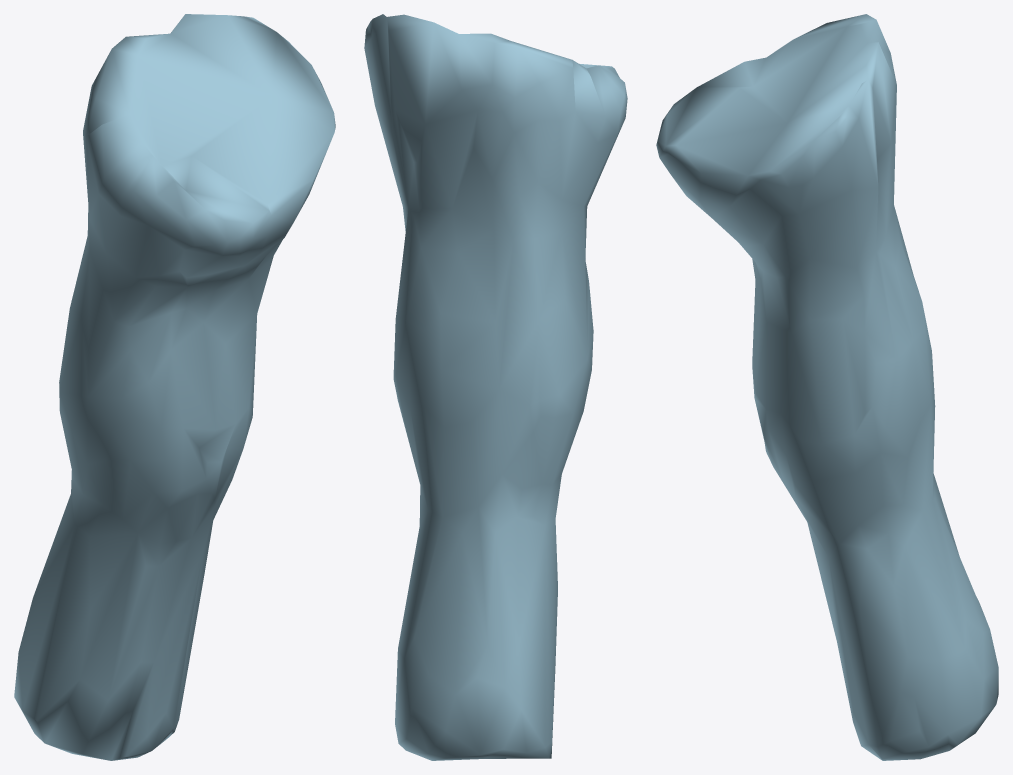
File: articulacoes-lateral-thyrohyoid-ligament-l.glb
3 renders of one model, left to right at view 1: azimuth 30°, elevation 25°; view 2: azimuth 150°, elevation 25°; view 3: azimuth 270°, elevation 25°, orthographic.
Visible parts, largest first — view 1: Lateral thyrohyoid ligament.l; view 2: Lateral thyrohyoid ligament.l; view 3: Lateral thyrohyoid ligament.l.
Part boxes in pixels (bbox=[...]): Lateral thyrohyoid ligament.l: bbox=[14, 14, 335, 760]; Lateral thyrohyoid ligament.l: bbox=[364, 14, 627, 760]; Lateral thyrohyoid ligament.l: bbox=[656, 14, 998, 760].
Size of the model in its own units: 0.00362 by 0.0106 by 0.00451.
